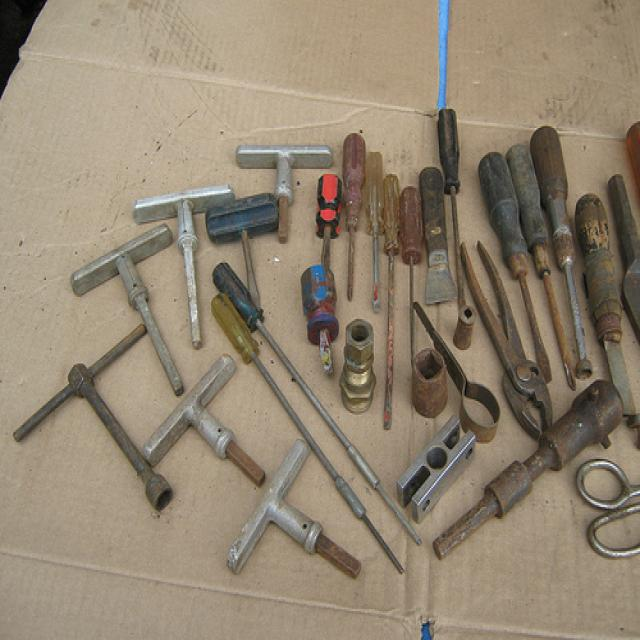wire_cutter: (461, 241, 553, 442)
